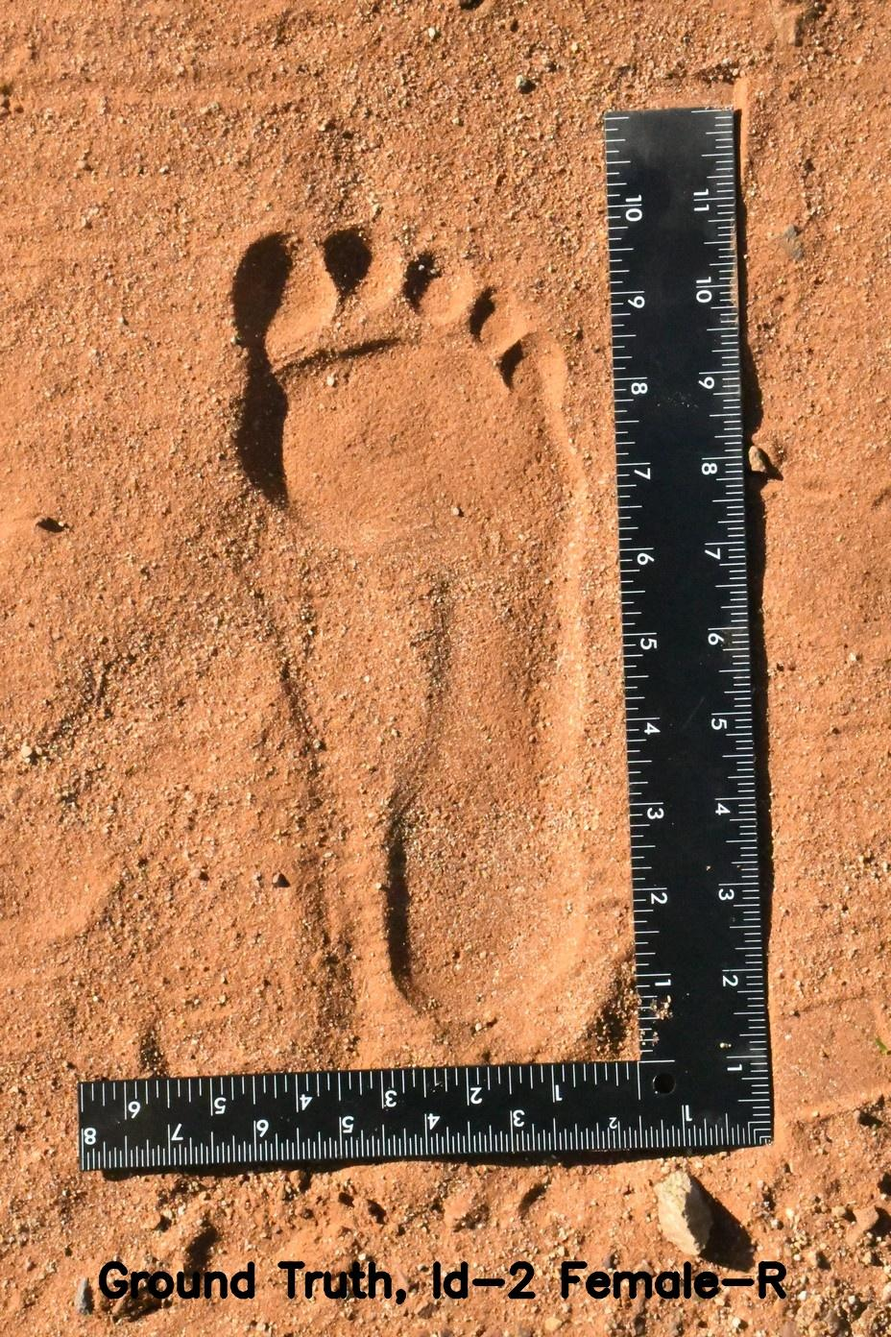human_foot_print: (196, 173, 614, 1053)
